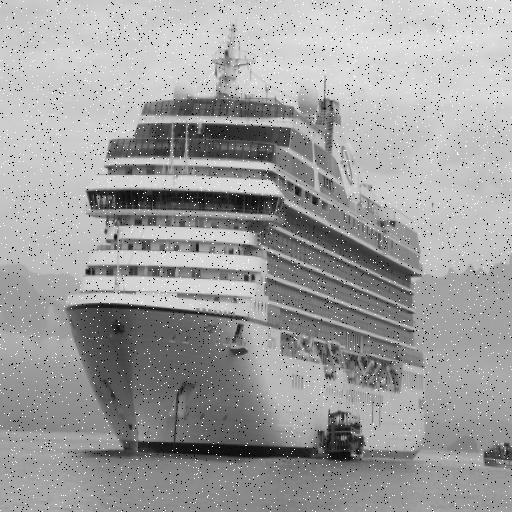cruises: (57, 21, 435, 470)
